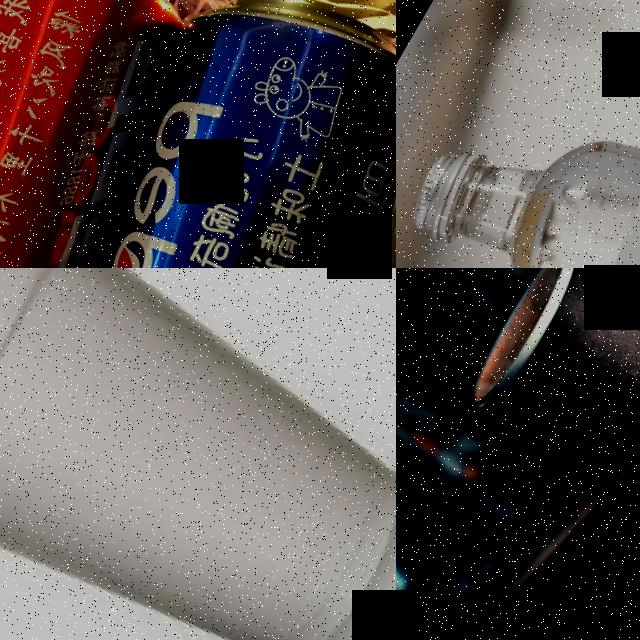bottle: (396, 0, 640, 268)
can: (0, 0, 396, 268), (0, 0, 253, 268)
cup: (0, 268, 396, 640), (460, 268, 640, 610)
